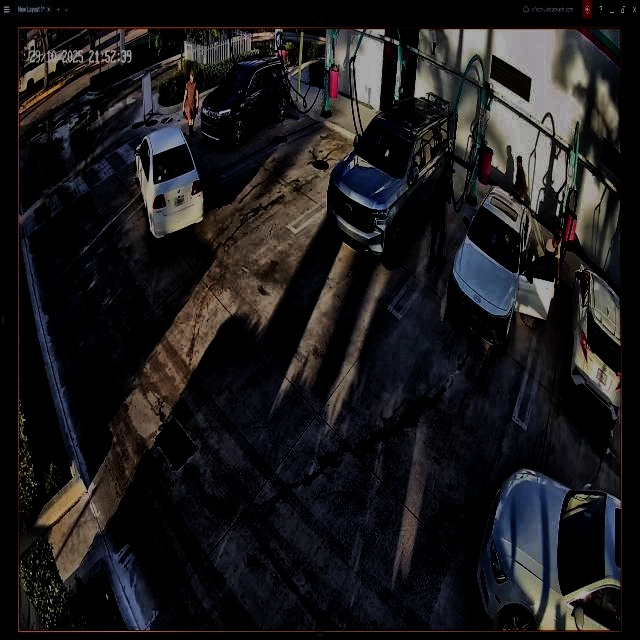Car: (326, 98, 455, 268), (451, 182, 555, 345), (138, 124, 205, 237)
